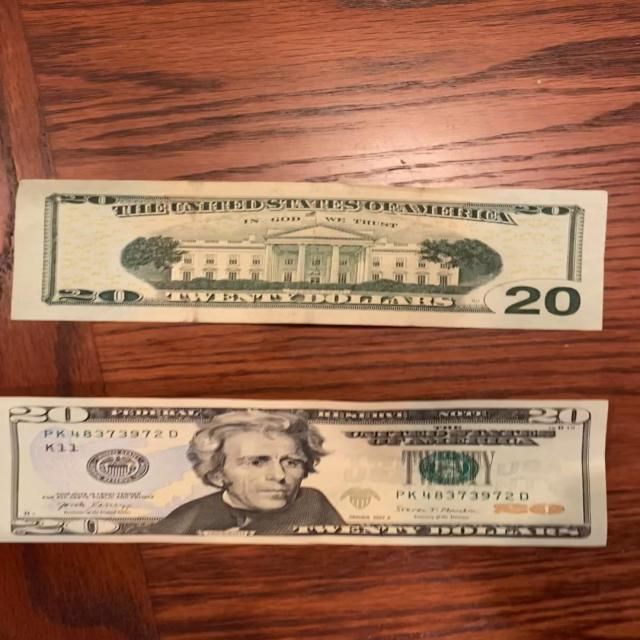20-Back: (5, 183, 609, 333)
20-Front: (0, 394, 612, 551)
